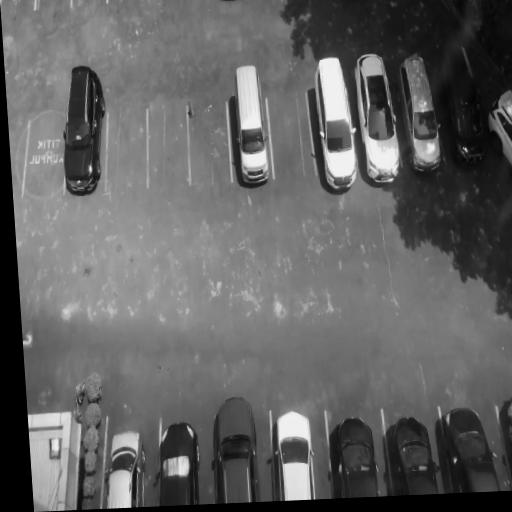Car: (305, 43, 359, 197), (56, 57, 113, 201), (435, 29, 488, 167), (354, 44, 403, 188), (223, 58, 273, 199), (438, 392, 503, 493), (398, 40, 443, 176), (207, 396, 261, 504), (270, 402, 318, 497), (326, 411, 379, 497), (153, 416, 203, 507), (386, 409, 438, 494), (101, 426, 149, 509), (482, 77, 512, 175), (490, 394, 512, 481), (216, 0, 248, 5)
Space Available: (142, 79, 191, 198), (13, 91, 65, 198), (184, 75, 232, 188), (266, 71, 311, 190), (104, 75, 146, 194), (36, 0, 73, 20), (106, 0, 146, 18), (150, 0, 183, 20), (70, 0, 109, 15), (180, 0, 217, 13)
